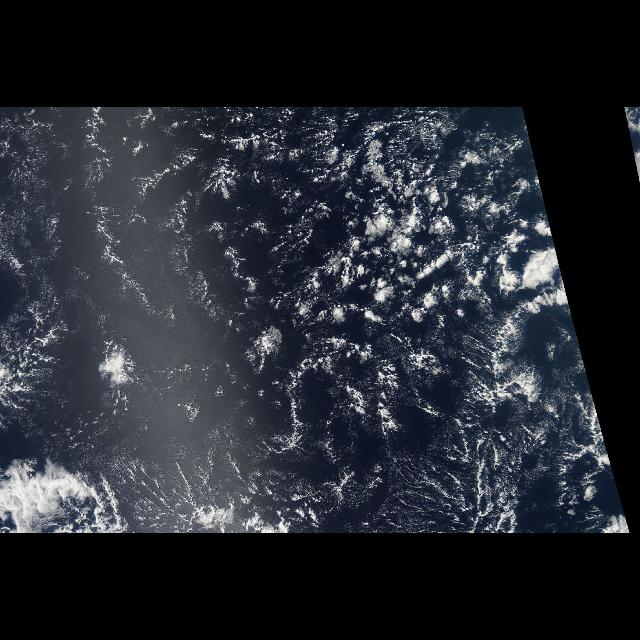Gravel: (12, 148, 394, 522)
Sugar: (2, 108, 314, 382), (308, 359, 558, 533)
